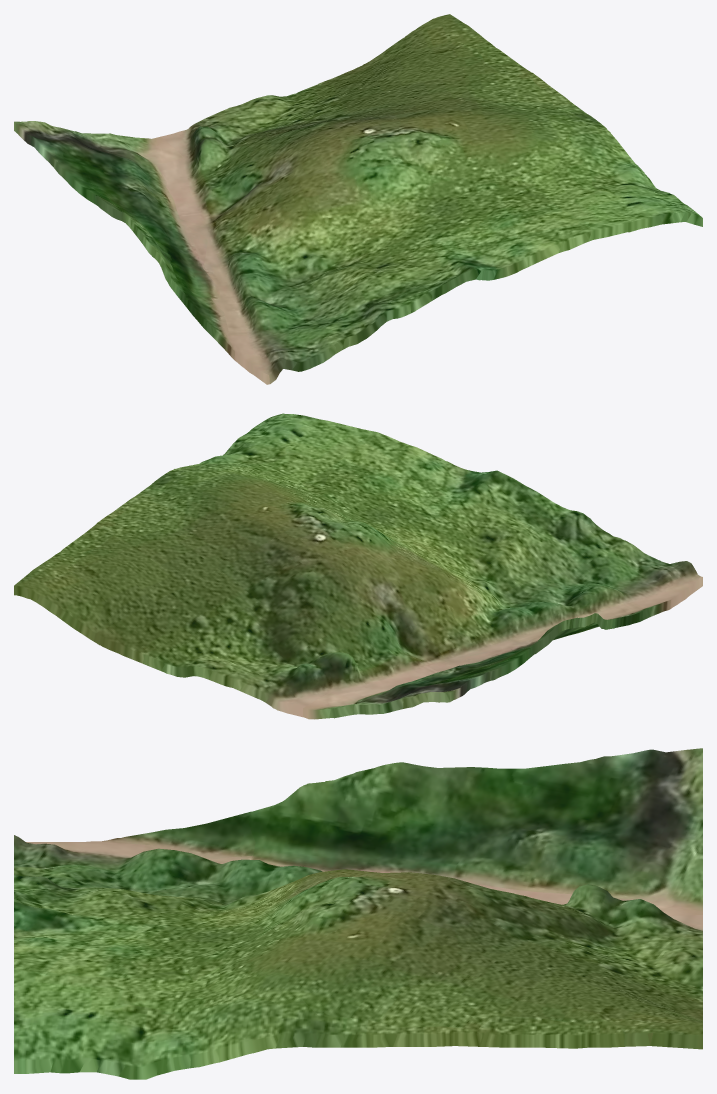
File: z20-167556-405173-h0-yup-uvflip-v3-world.glb
The picture shows the model from 3 angles, top to bottom: view 1: azimuth 30°, elevation 25°; view 2: azimuth 150°, elevation 25°; view 3: azimuth 270°, elevation 25°; orthographic projection. The views are drawn at different scales.
Size of the model in its own units: 30.16 by 6.4 by 30.32.
Materials: 1 (1 with a texture image).
